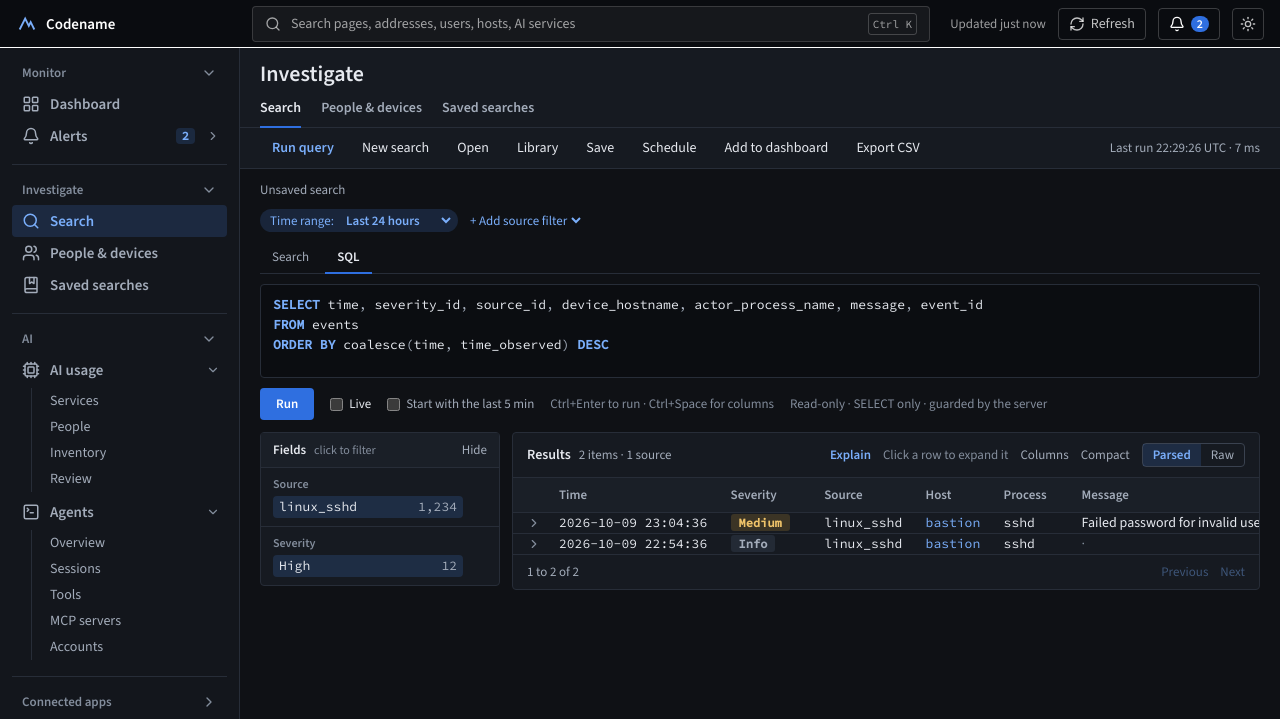
Test: Search page › expands a row inline and loads the full event with its raw line
Expected: the heading "Investigate" is shown, [260,59,364,88]
Expected: the text "Failed password for invalid user oracle" is shown, [1082,513,1259,532]
Click the text "Failed password for invalid user oracle" at (896, 524), box [513,513,1279,534]
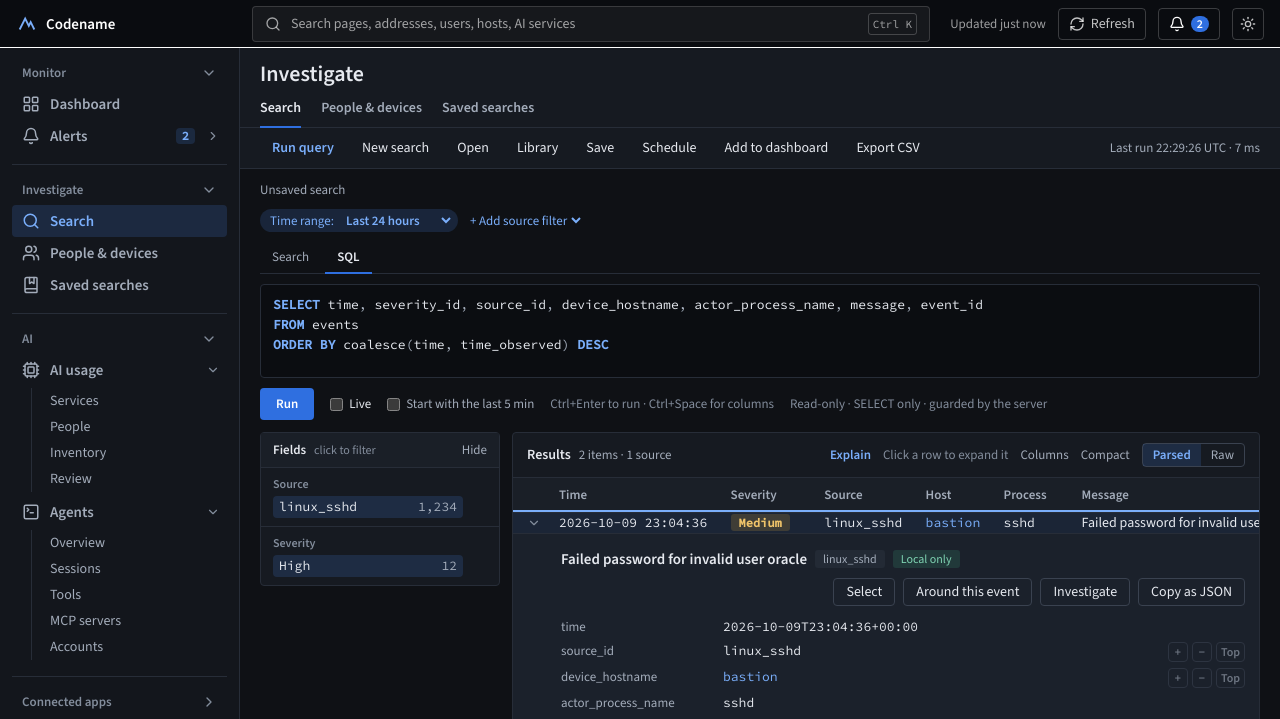
Expected: the text "Failed password for invalid user oracle" is expanded, [513,513,1259,534]
Expected: the text "Local only" is shown, [893,550,960,568]
